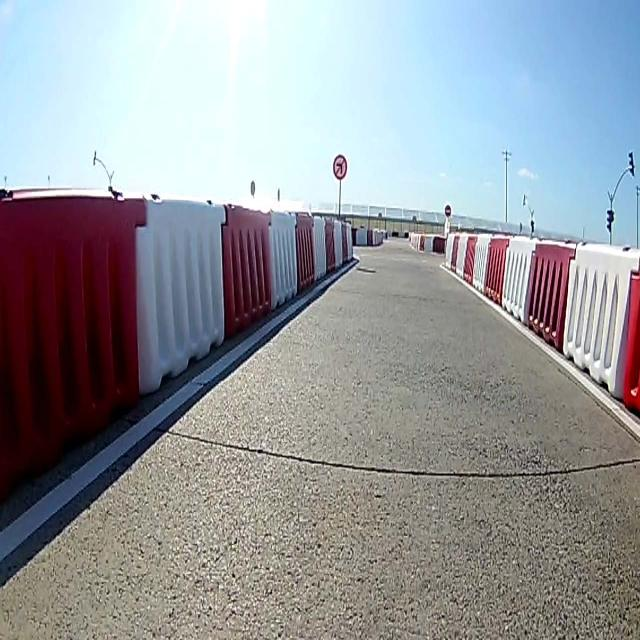soladonulmez: (332, 151, 349, 183)
